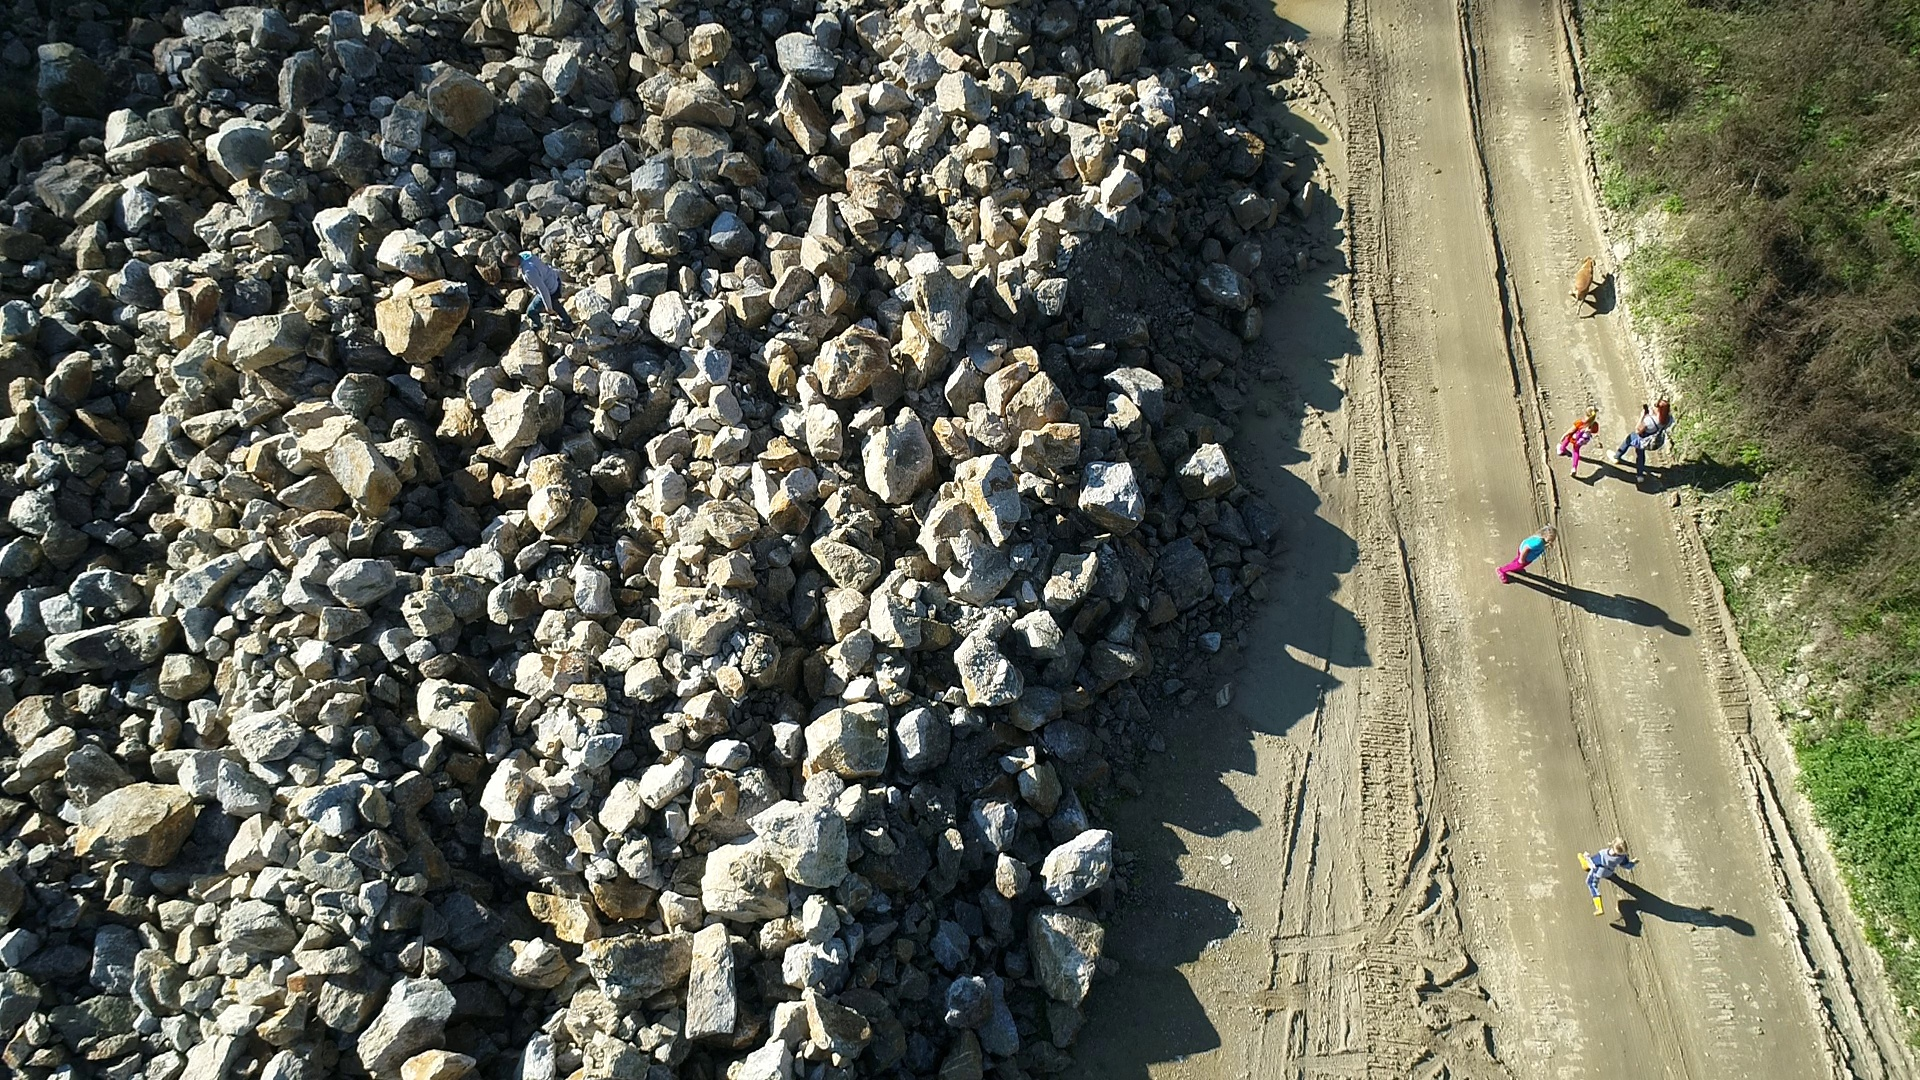person: (499, 245, 575, 332), (1605, 398, 1675, 487), (1577, 835, 1641, 918), (1496, 523, 1560, 584), (1558, 404, 1600, 482)
